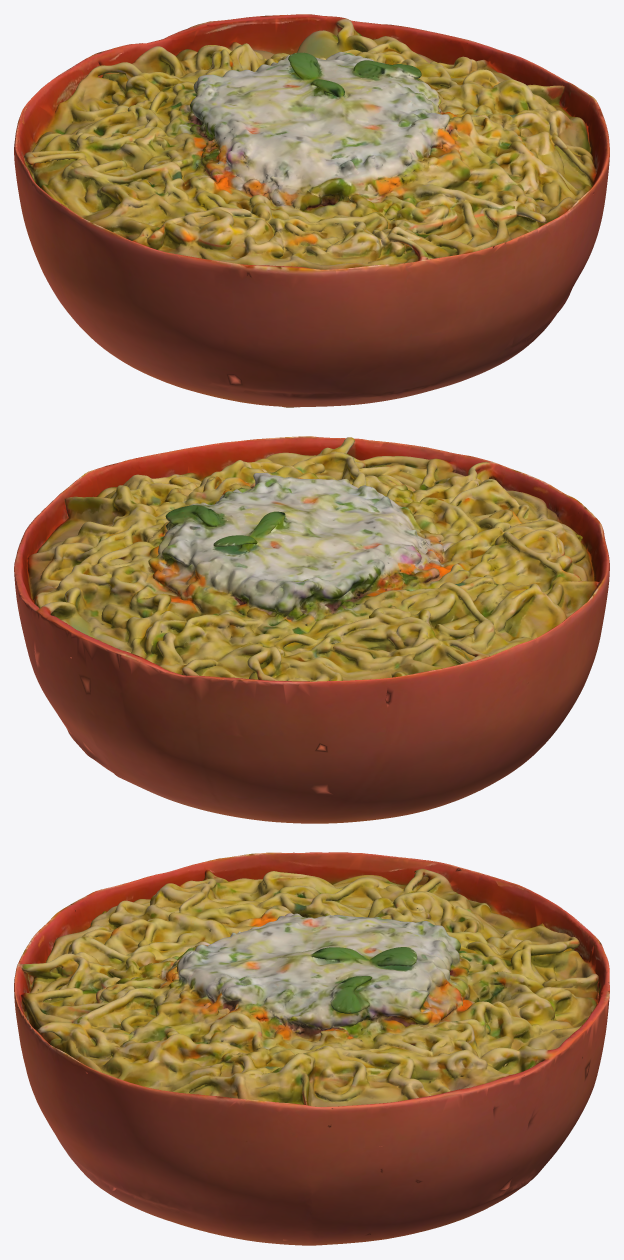
File: peri_peri_wings.glb
The picture shows the model from 3 angles, top to bottom: view 1: azimuth 30°, elevation 25°; view 2: azimuth 150°, elevation 25°; view 3: azimuth 270°, elevation 25°; orthographic projection.
Size of the model in its own units: 1.99 by 0.9551 by 2.
Materials: 1 (1 with a texture image).
